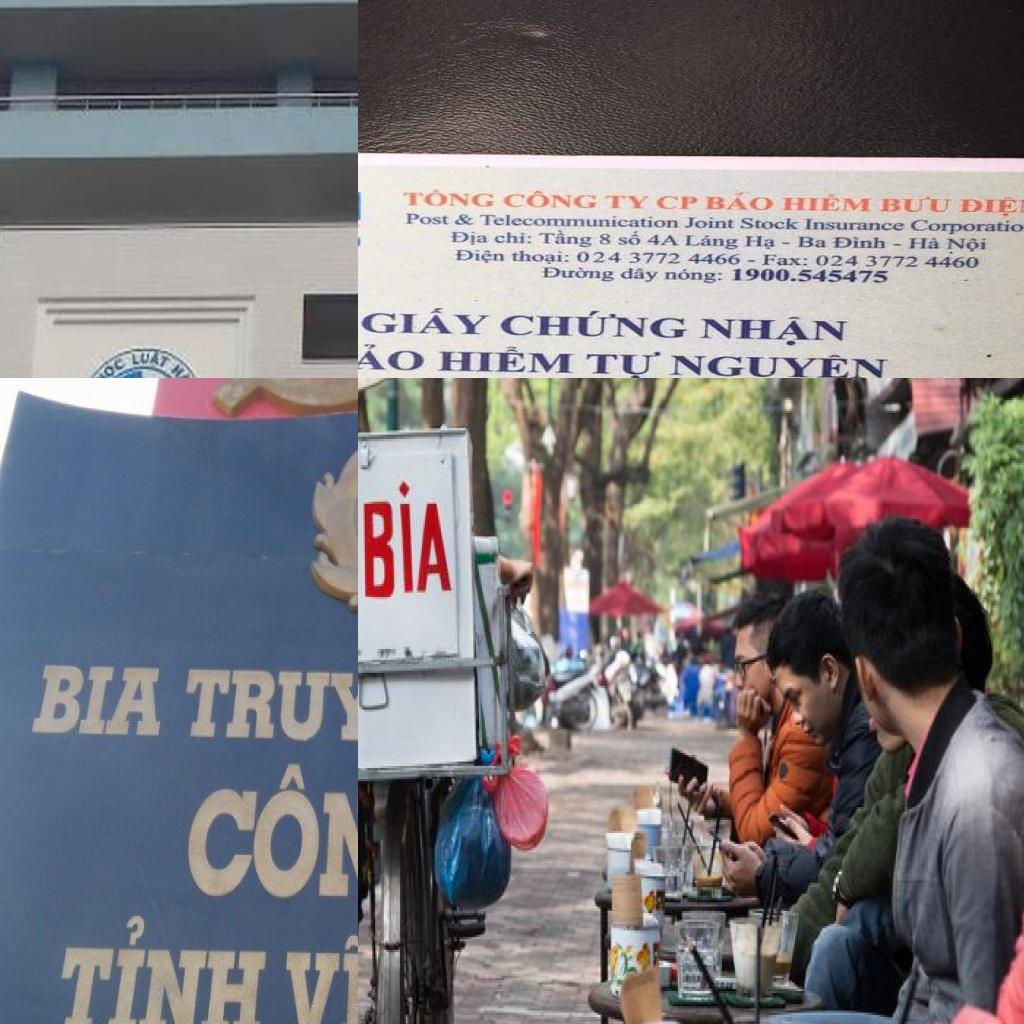text: (178, 761, 358, 903), (49, 911, 272, 1024), (179, 644, 358, 749), (362, 478, 456, 603), (27, 659, 165, 738), (278, 927, 358, 1024), (498, 309, 692, 341), (668, 351, 892, 378), (698, 314, 850, 348), (433, 344, 578, 377), (358, 306, 495, 336), (477, 214, 680, 230), (728, 268, 892, 285), (574, 251, 745, 267), (814, 254, 981, 270), (582, 350, 664, 378), (358, 341, 429, 373), (910, 218, 1024, 237), (400, 187, 498, 209), (502, 190, 600, 211), (779, 193, 874, 213), (702, 191, 776, 213), (957, 196, 1024, 219), (802, 218, 907, 232), (538, 266, 616, 284), (878, 196, 955, 213), (128, 346, 174, 373), (662, 267, 726, 286), (683, 232, 742, 252), (537, 230, 595, 250), (454, 248, 510, 267), (511, 249, 573, 266), (88, 352, 127, 378), (738, 216, 802, 231), (831, 235, 888, 251), (603, 194, 653, 211), (761, 253, 810, 269), (683, 216, 738, 230), (447, 230, 492, 247), (619, 267, 661, 285), (653, 195, 700, 211), (946, 237, 990, 253), (404, 212, 452, 226), (743, 234, 779, 251), (494, 231, 534, 246), (645, 233, 682, 249), (907, 236, 943, 251), (167, 359, 194, 378), (616, 230, 644, 247), (796, 235, 830, 249), (452, 213, 476, 227), (597, 233, 614, 247)
